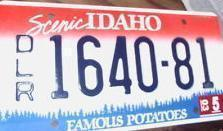placa de veiculo: (1, 3, 222, 125)
